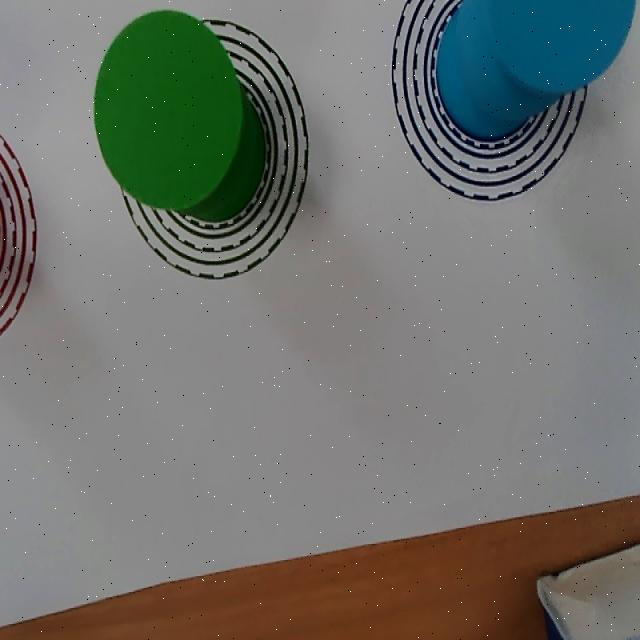g: (94, 11, 243, 211)
